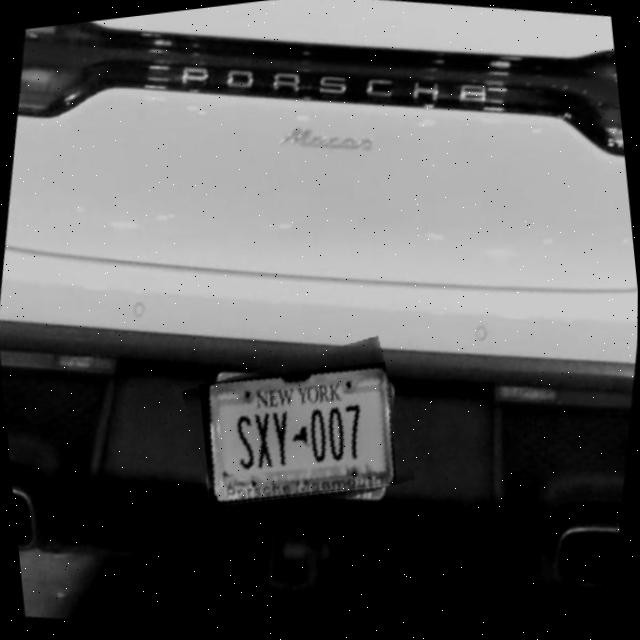LicensePlate: (205, 367, 394, 504)
